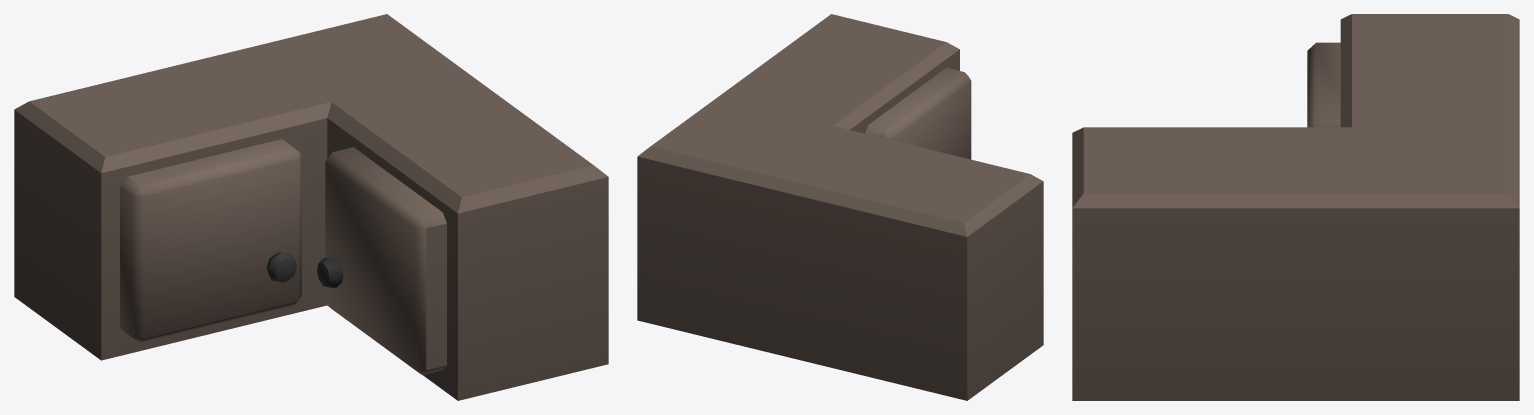
File: kitchencabinet_corner_half_styleB.obj
3 renders of one model, left to right at view 1: azimuth 30°, elevation 25°; view 2: azimuth 150°, elevation 25°; view 3: azimuth 270°, elevation 25°, orthographic. The views are drawn at different scales.
Visible parts, largest first — view 1: kitchencabinet_corner_half_styleB_Cube.026; view 2: kitchencabinet_corner_half_styleB_Cube.026; view 3: kitchencabinet_corner_half_styleB_Cube.026.
Boxes of the visible parts, x1,y1,x2,y2 form: kitchencabinet_corner_half_styleB_Cube.026: (14,14,608,400); kitchencabinet_corner_half_styleB_Cube.026: (637,14,1043,400); kitchencabinet_corner_half_styleB_Cube.026: (1072,14,1519,400).
Size of the model in its own units: 2 by 1 by 2.
Materials: 1 (1 with a texture image).
